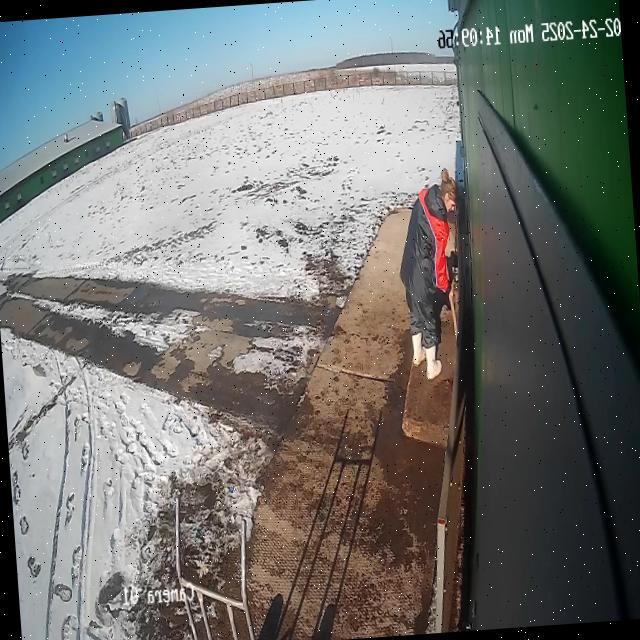Red uniform: (391, 175, 472, 384)
